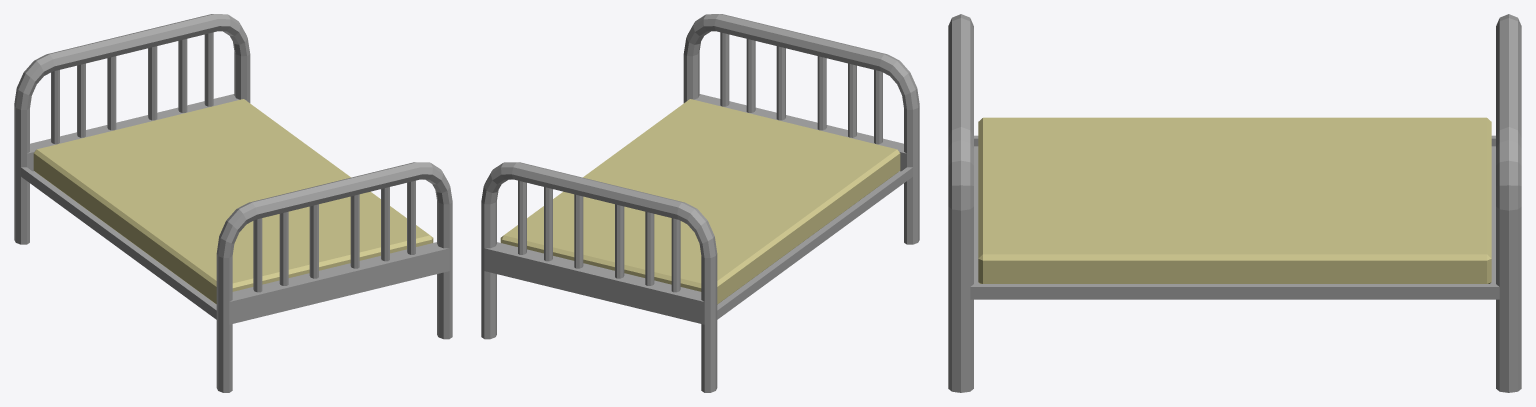
File: bed.fbx
The picture shows the model from 3 angles, left to right: view 1: azimuth 30°, elevation 25°; view 2: azimuth 150°, elevation 25°; view 3: azimuth 270°, elevation 25°; orthographic projection. The views are drawn at different scales.
Parts seen in each view (by area): view 1: Cylinder; view 2: Cylinder; view 3: Cylinder.
Part boxes in pixels (x1=…): Cylinder: x1=14, y1=14, x2=452, y2=392; Cylinder: x1=481, y1=14, x2=919, y2=392; Cylinder: x1=948, y1=14, x2=1521, y2=392.
Size of the model in its own units: 133 by 98.18 by 209.
